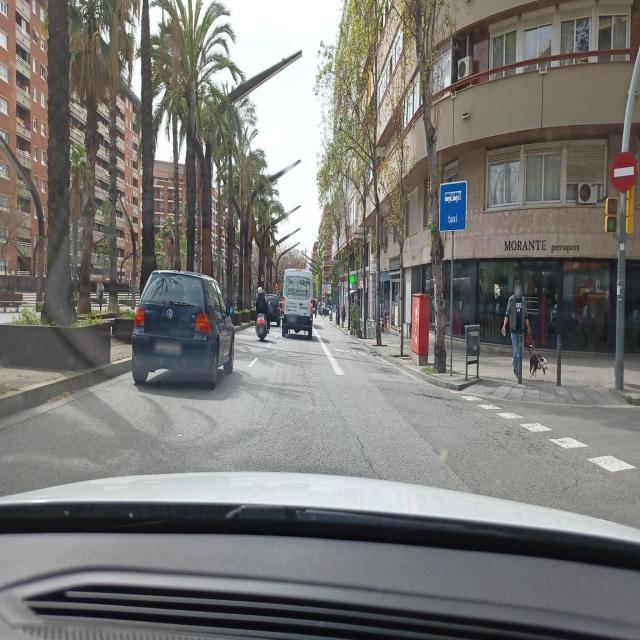bike: (255, 308, 270, 342)
car: (131, 268, 235, 388), (280, 267, 314, 339), (265, 293, 281, 326)
